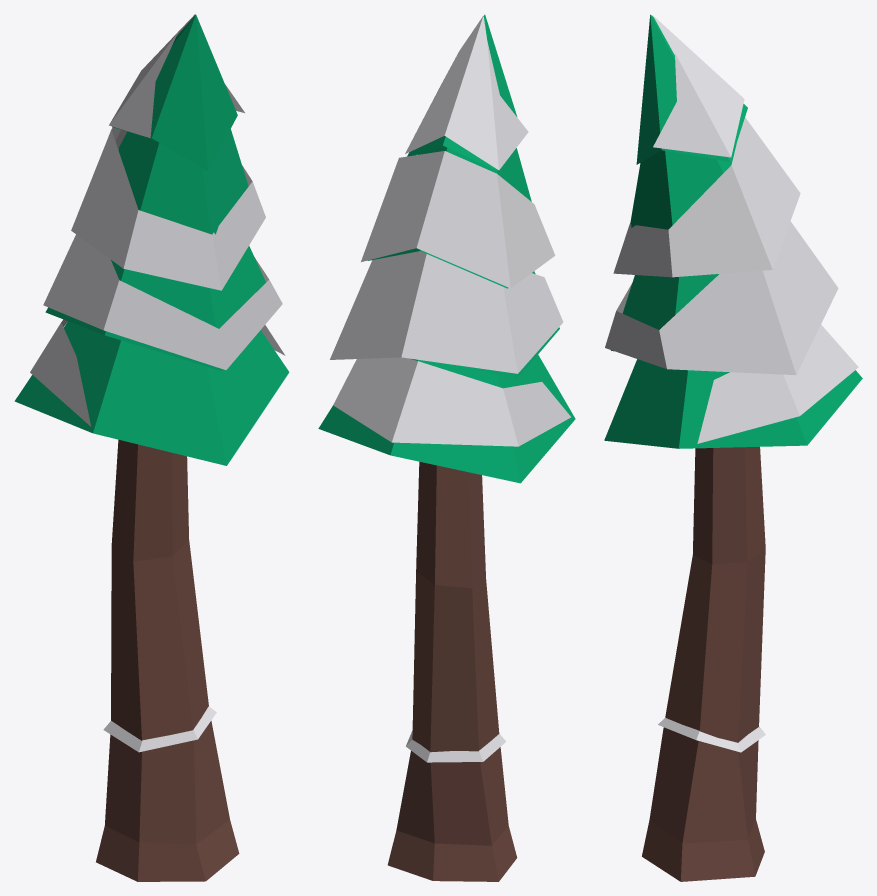
The model's file is Tree04.fbx.
3 renders of one model, left to right at view 1: azimuth 30°, elevation 25°; view 2: azimuth 150°, elevation 25°; view 3: azimuth 270°, elevation 25°, orthographic. The views are drawn at different scales.
Parts seen in each view (by area): view 1: Tree04_Stem, Tree04_Stump, Tree04_Stump_Snow; view 2: Tree04_Stem, Tree04_Stump, Tree04_Stump_Snow; view 3: Tree04_Stem, Tree04_Stump, Tree04_Stump_Snow.
Boxes of the visible parts, x1,y1,x2,y2 form: Tree04_Stem: (14,14,289,740); Tree04_Stump: (96,721,239,881); Tree04_Stump_Snow: (103,706,216,752); Tree04_Stem: (318,14,575,752); Tree04_Stump: (387,747,517,881); Tree04_Stump_Snow: (406,730,506,762); Tree04_Stem: (604,14,862,742); Tree04_Stump: (642,727,764,881); Tree04_Stump_Snow: (658,718,765,752).
Bounding box in the file's own units: 1.32 × 4.87 × 1.36.
Materials: 1 (1 with a texture image).
